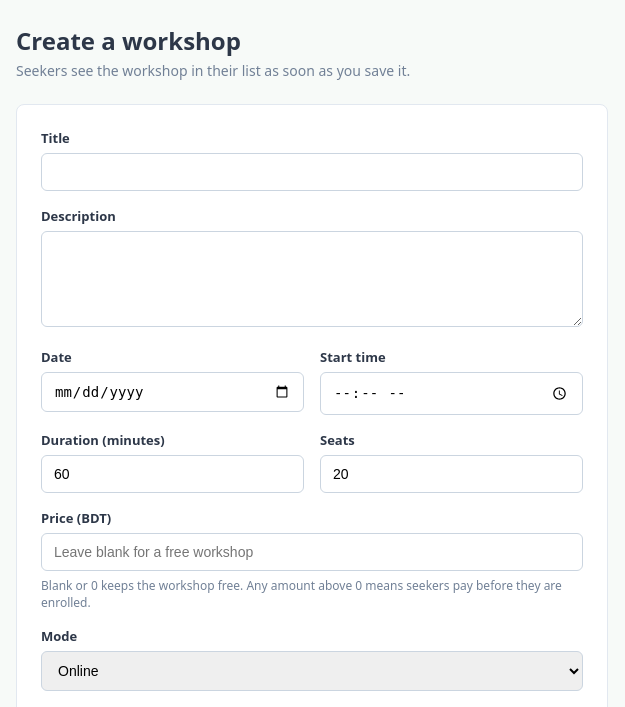
it: CreateWorkshop form › asks for a date when only the title is filled
Type "Coping With Exam Anxiety" into the field labelled "Title" at (312, 172), box top-left (41, 153), bottom-right (583, 191)
(page scrolled)
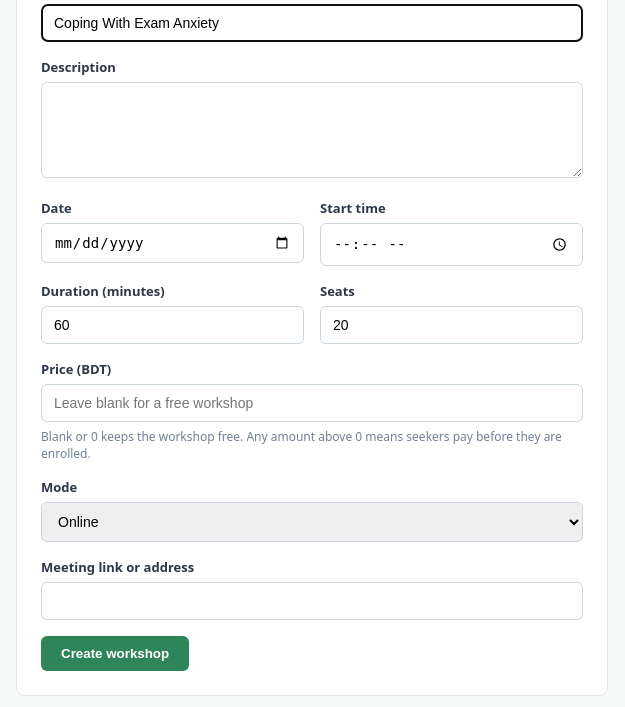
Click the button "Create workshop" at (115, 653), box top-left (41, 636), bottom-right (189, 671)
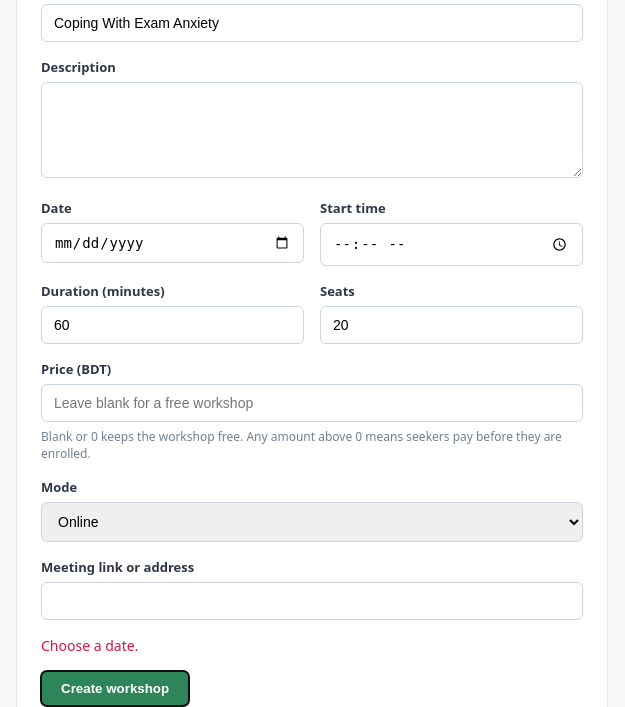
Result: the message reads "Choose a date." at top-left (41, 636), bottom-right (138, 655)
